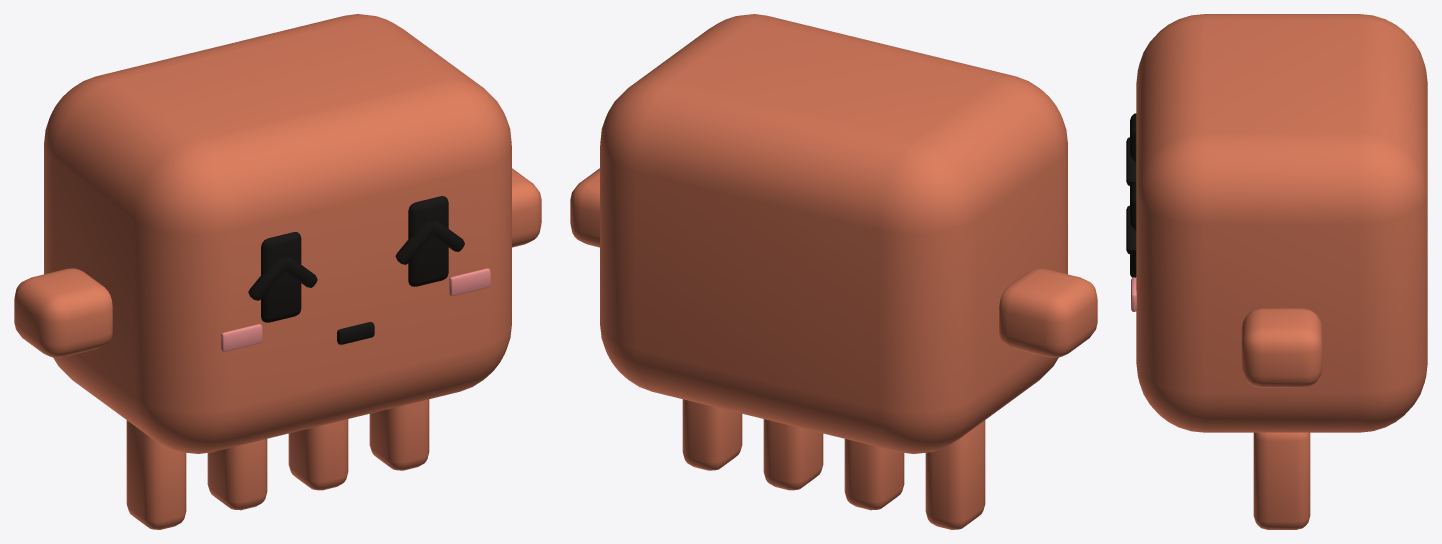
The model's file is claude_rosto.glb.
3 views of the same model, side by side, from view 1: azimuth 30°, elevation 25°; view 2: azimuth 150°, elevation 25°; view 3: azimuth 270°, elevation 25° (orthographic). The views are drawn at different scales.
Visible parts, largest first — view 1: claude_corpo, Cube, Cube.002, Cube.005, Cube.004, Cube.003, claude_olhoE, claude_olhoD, Cube.001, Cube.012, Cube.011, Cube.009 (+2 smaller); view 2: claude_corpo, Cube, Cube.002, Cube.005, Cube.004, Cube.003, Cube.001; view 3: claude_corpo, Cube.001, Cube.005, claude_olhoD, Cube.010.
Boxes of the visible parts, x1,y1,x2,y2 form: claude_corpo: [44, 14, 511, 453]; Cube: [14, 268, 112, 357]; Cube.002: [126, 420, 186, 529]; Cube.005: [369, 399, 429, 470]; Cube.004: [288, 419, 348, 490]; Cube.003: [207, 439, 267, 510]; claude_olhoE: [261, 232, 301, 322]; claude_olhoD: [408, 196, 448, 286]; Cube.001: [512, 168, 541, 247]; Cube.012: [449, 268, 490, 296]; Cube.011: [221, 324, 262, 351]; Cube.009: [395, 222, 433, 264]; claude_corpo: [600, 14, 1067, 453]; Cube: [999, 268, 1097, 357]; Cube.002: [925, 420, 985, 529]; Cube.005: [682, 399, 742, 470]; Cube.004: [763, 419, 823, 490]; Cube.003: [844, 439, 904, 510]; Cube.001: [570, 168, 599, 247]; claude_corpo: [1136, 14, 1427, 432]; Cube.001: [1241, 308, 1322, 387]; Cube.005: [1253, 432, 1310, 529]; claude_olhoD: [1130, 181, 1136, 274]; Cube.010: [1126, 208, 1136, 254].
Bounding box in the file's own units: 1.36 × 1.07 × 0.745.
